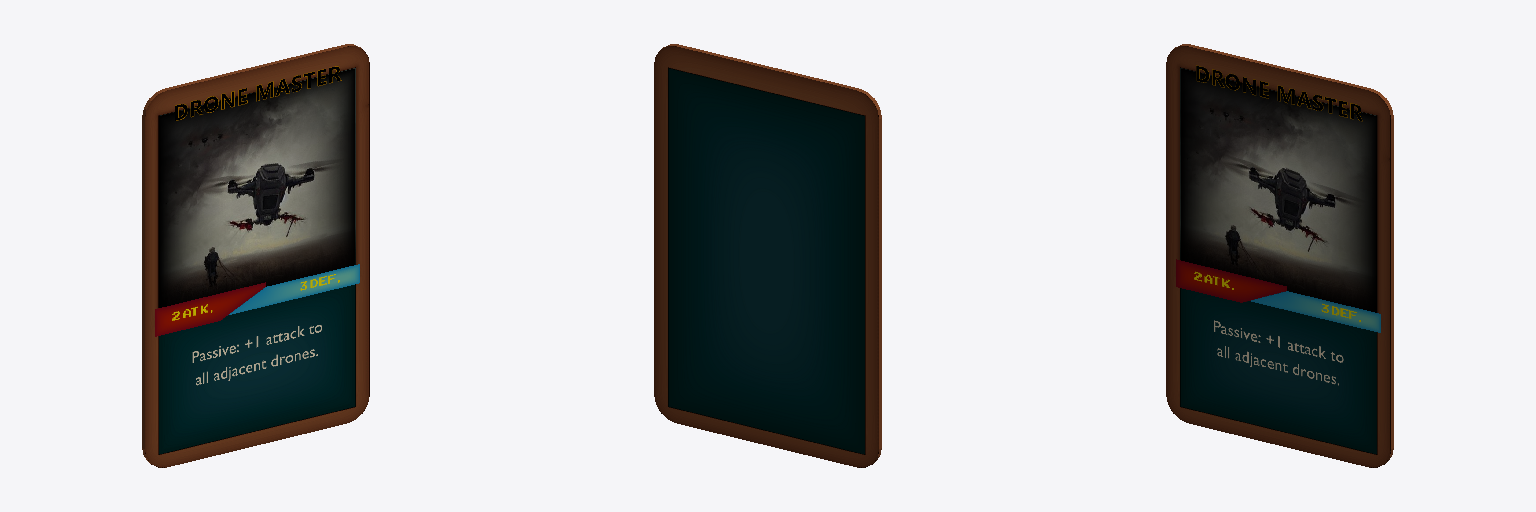
3 views of the same model, side by side, from view 1: azimuth 30°, elevation 25°; view 2: azimuth 150°, elevation 25°; view 3: azimuth 330°, elevation 25° (orthographic).
Parts seen in each view (by area): view 1: Cube; view 2: Cube; view 3: Cube.
Part boxes in pixels (x1,y1,x2,y2): Cube: (142,44,369,467); Cube: (654,44,881,467); Cube: (1166,44,1393,467).
Size of the model in its own units: 2 by 3.2 by 0.04.
Materials: 1 (1 with a texture image).